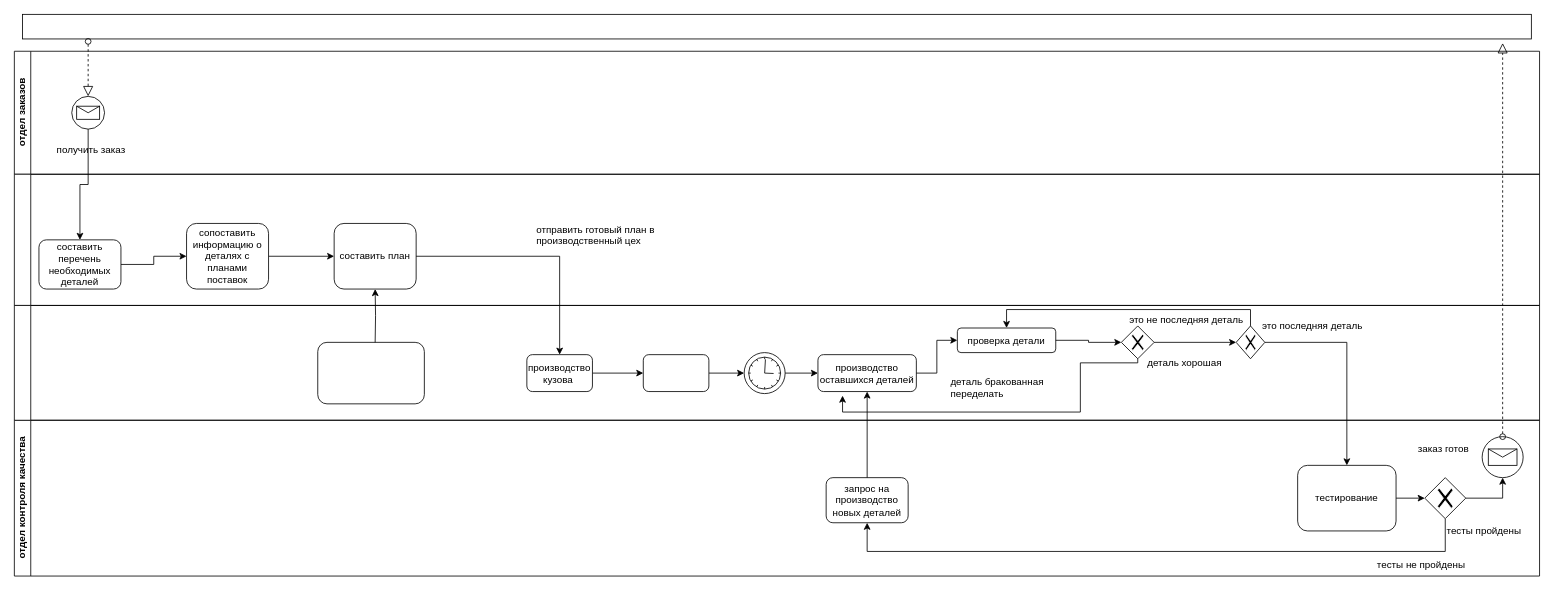
Some shapes in this 1554 by 590 pixel diagram are drawn without their labels. The box of each missing label's shape, as (x1, y1, x2, y2) in pixels:
дилер: (22, 14, 1531, 39)
отдел планирования: (14, 173, 1540, 305)
отправить информацию о степени загруженности конвейера: (317, 342, 424, 404)
покраска кузова: (642, 354, 709, 392)
сборочный цех: (14, 305, 1540, 420)
